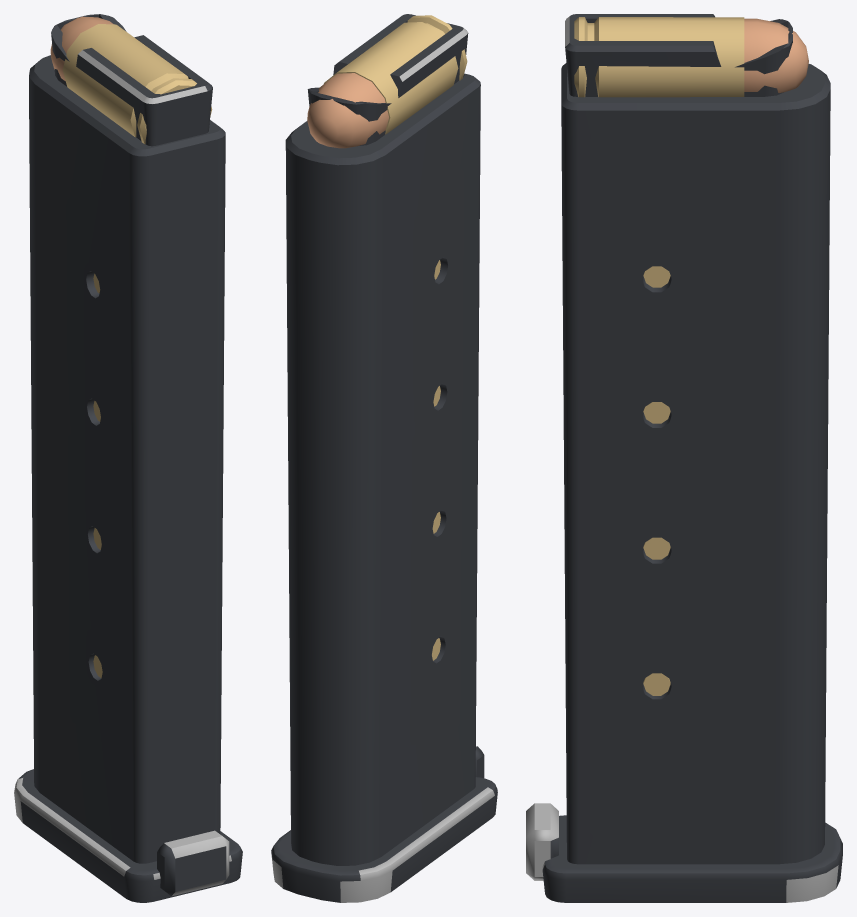
File: pm_mag.glb
3 renders of one model, left to right at view 1: azimuth 30°, elevation 25°; view 2: azimuth 150°, elevation 25°; view 3: azimuth 270°, elevation 25°, orthographic. The views are drawn at different scales.
Parts seen in each view (by area): view 1: static_mag, round_1; view 2: static_mag, round_1; view 3: static_mag, round_1.
Boxes of the visible parts, left/top/right/bottom form: static_mag: left=14, top=14, right=242, bottom=902; round_1: left=50, top=16, right=212, bottom=144; static_mag: left=271, top=14, right=497, bottom=902; round_1: left=307, top=15, right=467, bottom=148; static_mag: left=526, top=14, right=842, bottom=902; round_1: left=574, top=17, right=808, bottom=97.
Bounding box in the file's own units: 0.0152 × 0.1005 × 0.0337.
